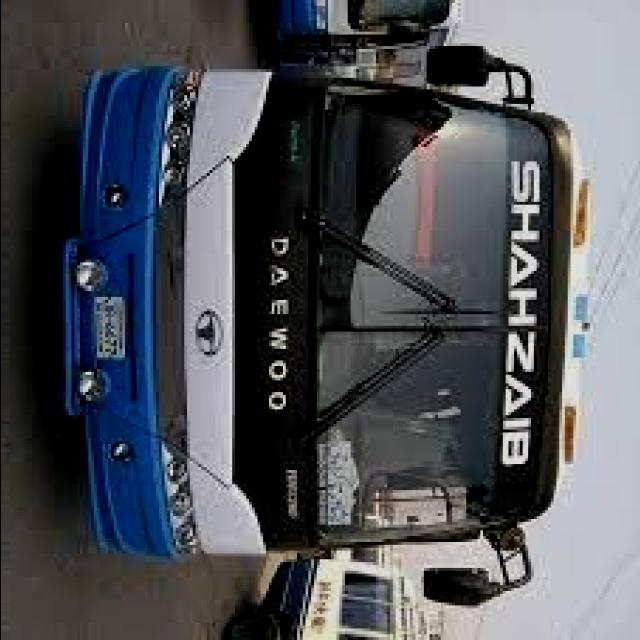bus: (59, 24, 609, 614)
